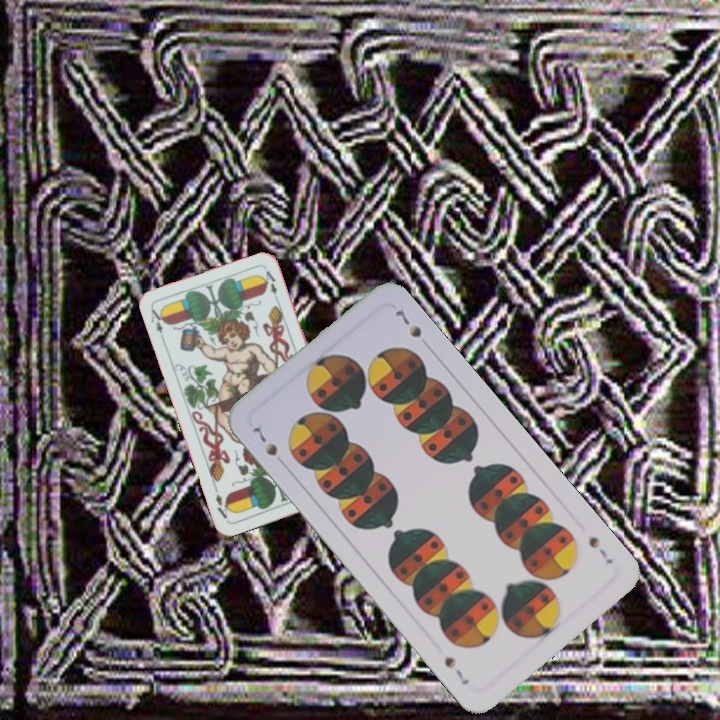EA: (147, 305, 168, 344)
S7: (249, 422, 281, 459), (584, 532, 616, 567)
